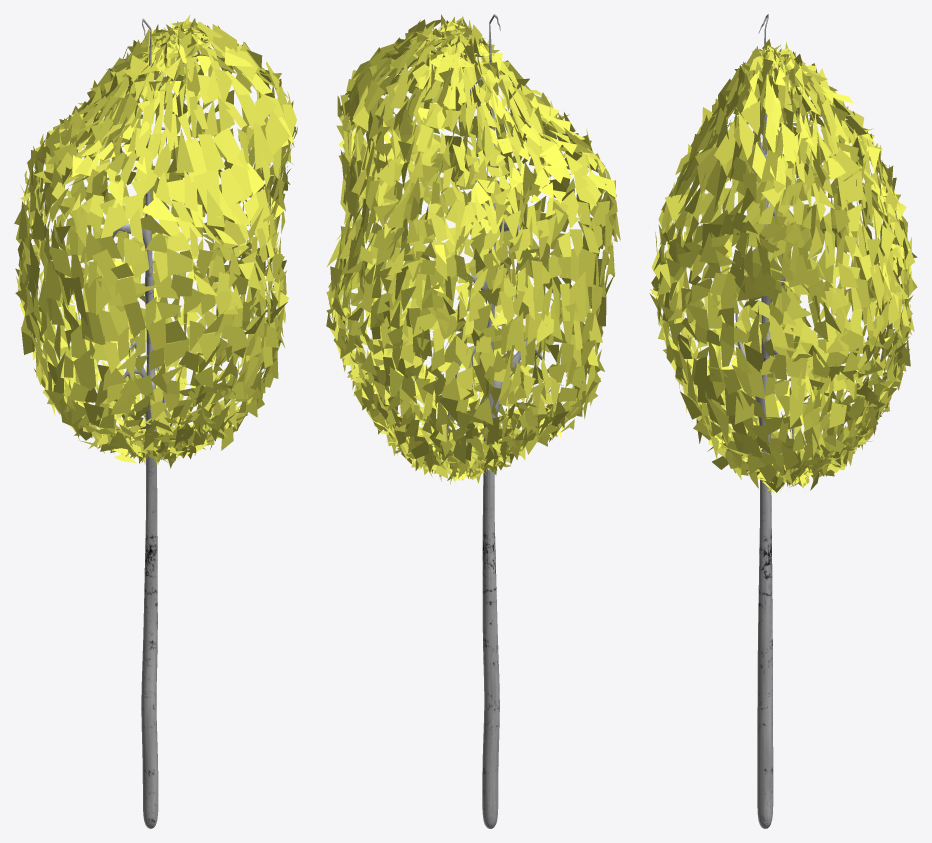
The model's file is Leaves44.001.fbx.
The picture shows the model from 3 angles, left to right: view 1: azimuth 30°, elevation 25°; view 2: azimuth 150°, elevation 25°; view 3: azimuth 270°, elevation 25°; orthographic projection.
Parts seen in each view (by area): view 1: Leaves44.001; view 2: Leaves44.001; view 3: Leaves44.001.
Boxes of the visible parts, bbox=[...] form: Leaves44.001: bbox=[14, 14, 297, 828]; Leaves44.001: bbox=[326, 14, 620, 828]; Leaves44.001: bbox=[649, 14, 917, 828].
Size of the model in its own units: 873 by 2612 by 783.
Materials: 2 (1 with a texture image).
